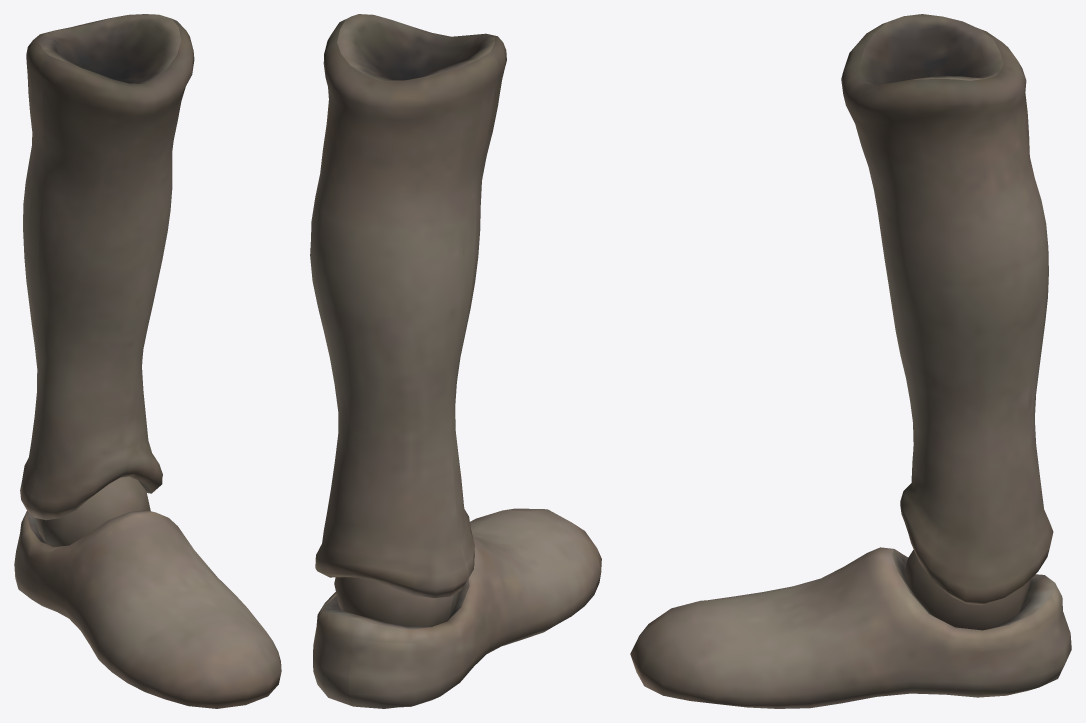
File: Leg_2.fbx
3 renders of one model, left to right at view 1: azimuth 30°, elevation 25°; view 2: azimuth 150°, elevation 25°; view 3: azimuth 270°, elevation 25°, orthographic. The views are drawn at different scales.
Visible parts, largest first — view 1: Leg_2; view 2: Leg_2; view 3: Leg_2.
Part boxes in pixels (x1,y1,x2,y2): Leg_2: (14,14,281,708); Leg_2: (310,14,601,708); Leg_2: (630,14,1071,708).
Bounding box in the file's own units: 24.82 × 92.37 × 58.79.
